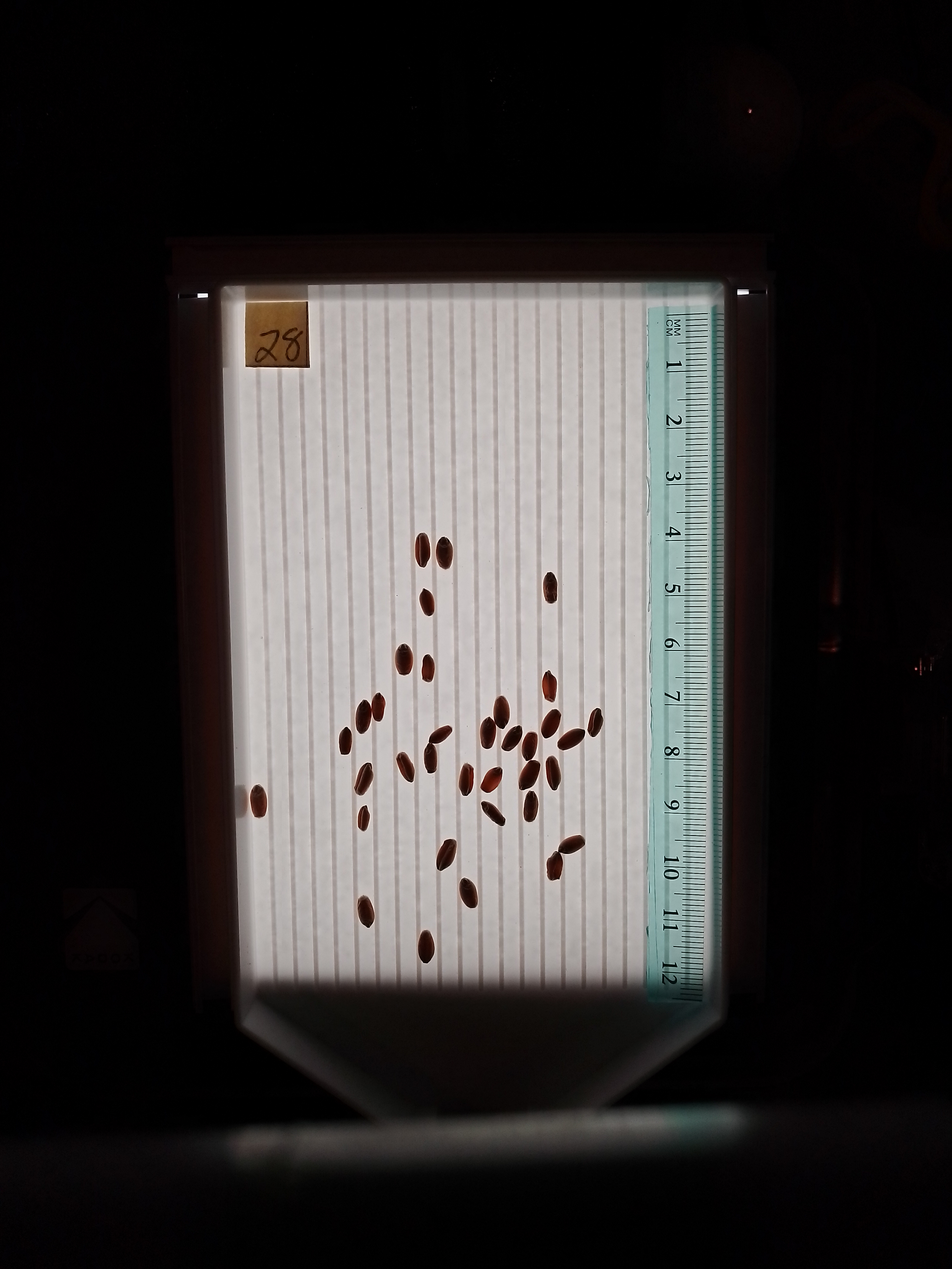seed mask: (437, 839, 456, 870), (459, 878, 478, 909), (519, 761, 539, 790), (355, 763, 373, 795), (558, 728, 584, 750), (541, 710, 561, 738), (482, 802, 505, 826), (396, 753, 415, 782), (481, 767, 502, 793), (559, 834, 585, 855), (357, 896, 374, 928), (250, 786, 267, 818), (436, 537, 453, 569), (395, 645, 413, 675), (545, 757, 561, 790), (356, 700, 372, 733), (415, 534, 431, 567), (493, 696, 509, 728), (418, 931, 434, 963), (502, 726, 521, 751), (480, 718, 495, 749), (459, 764, 474, 795), (523, 793, 538, 822), (543, 574, 558, 603), (547, 853, 563, 880), (542, 672, 557, 700), (588, 709, 603, 737), (424, 744, 438, 773), (419, 590, 435, 615), (522, 733, 537, 759), (430, 726, 451, 744), (372, 694, 386, 721), (421, 656, 435, 682), (339, 728, 352, 754), (357, 805, 370, 831)
